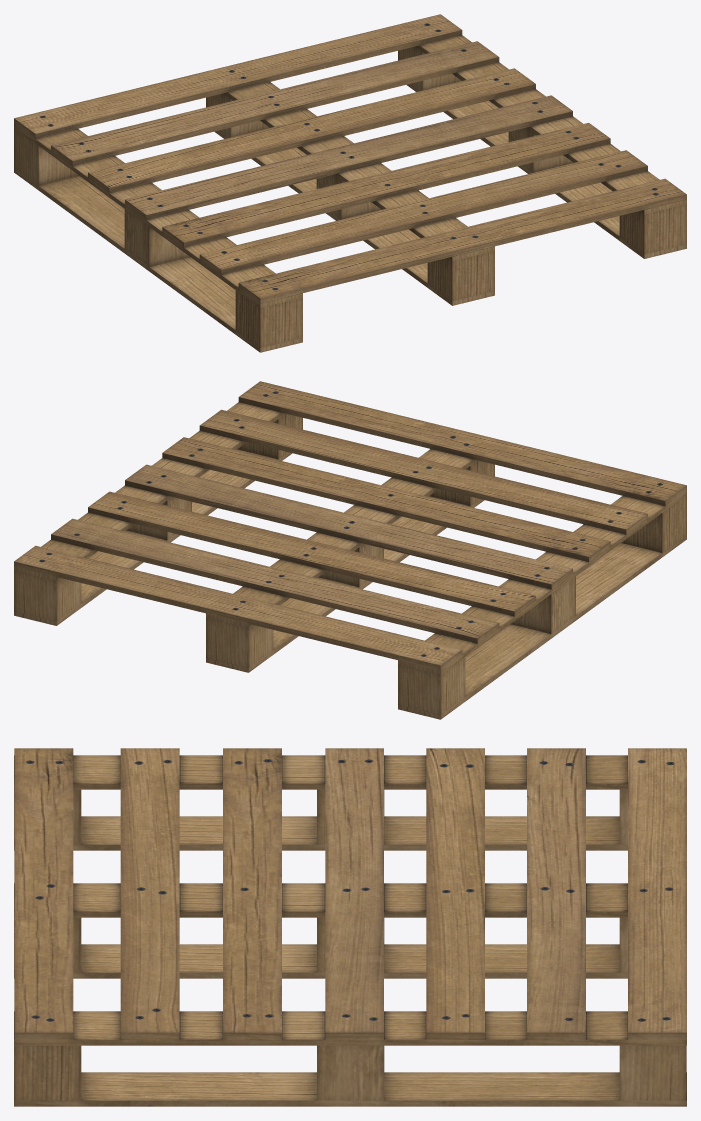
Rendered from tray.glb.
3 views of the same model, one above another, from view 1: azimuth 30°, elevation 25°; view 2: azimuth 150°, elevation 25°; view 3: azimuth 270°, elevation 25° (orthographic). The views are drawn at different scales.
Parts seen in each view (by area): view 1: 托盘_001; view 2: 托盘_001; view 3: 托盘_001.
Part boxes in pixels (<box>): 托盘_001: <box>14,14,686,352</box>; 托盘_001: <box>14,381,686,719</box>; 托盘_001: <box>14,748,686,1106</box>.
Bounding box in the file's own units: 1.46 × 0.1771 × 1.46.
Materials: 1 (1 with a texture image).
